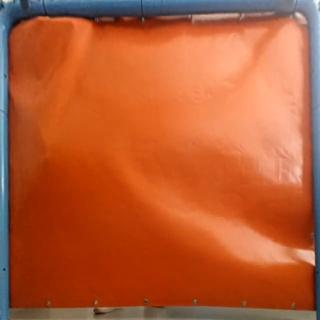Hit-hRxx: (33, 14, 48, 28)
